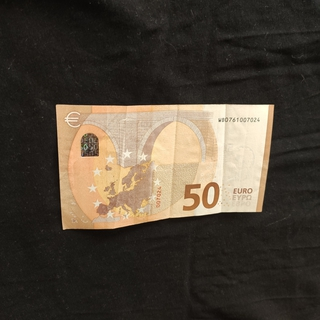50EUROBack: (54, 103, 275, 230)
